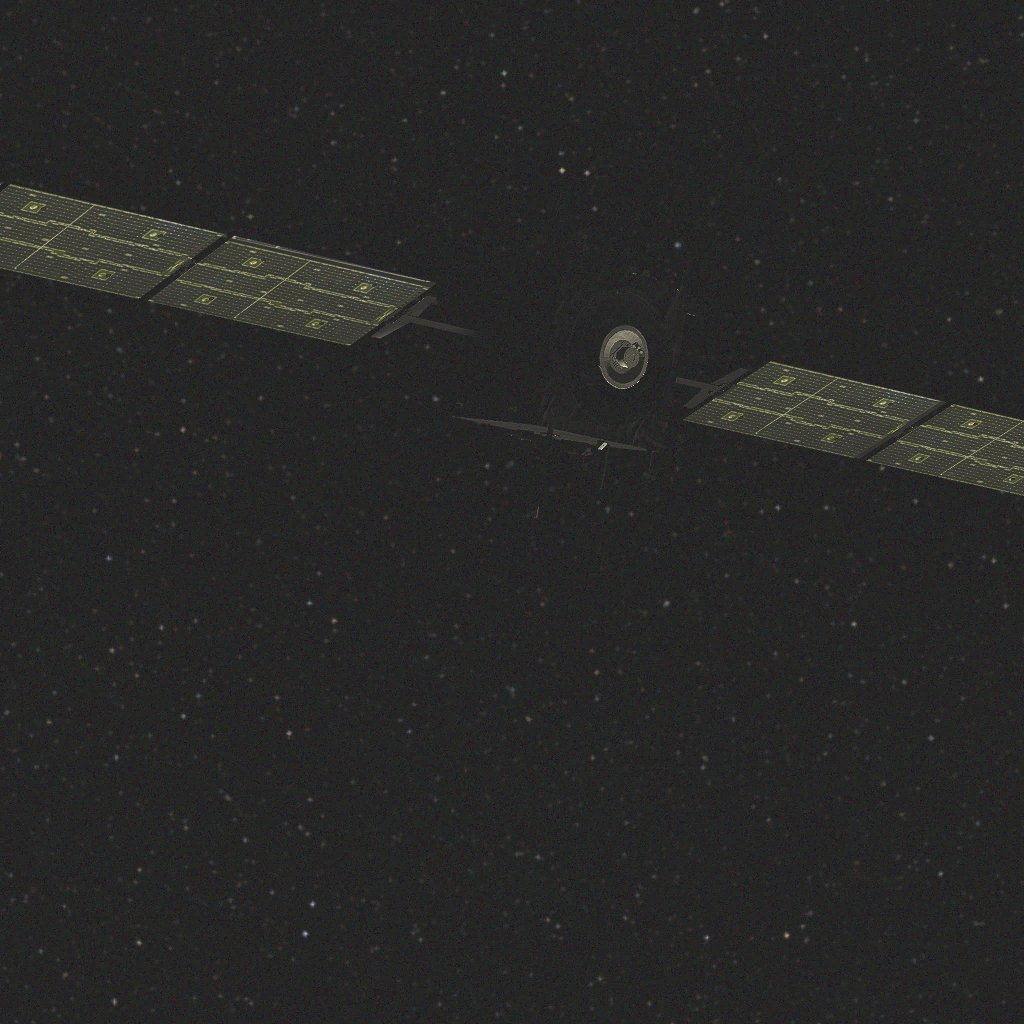smart_1: (0, 179, 1024, 518)
